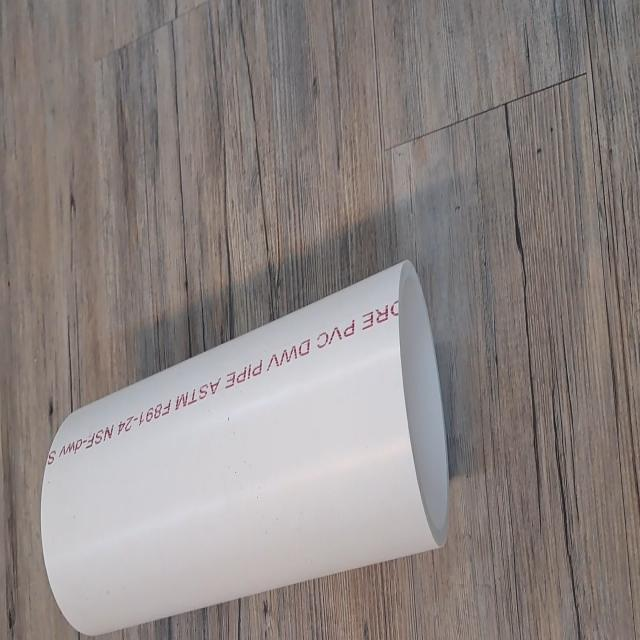CORAL: (35, 255, 454, 640)
